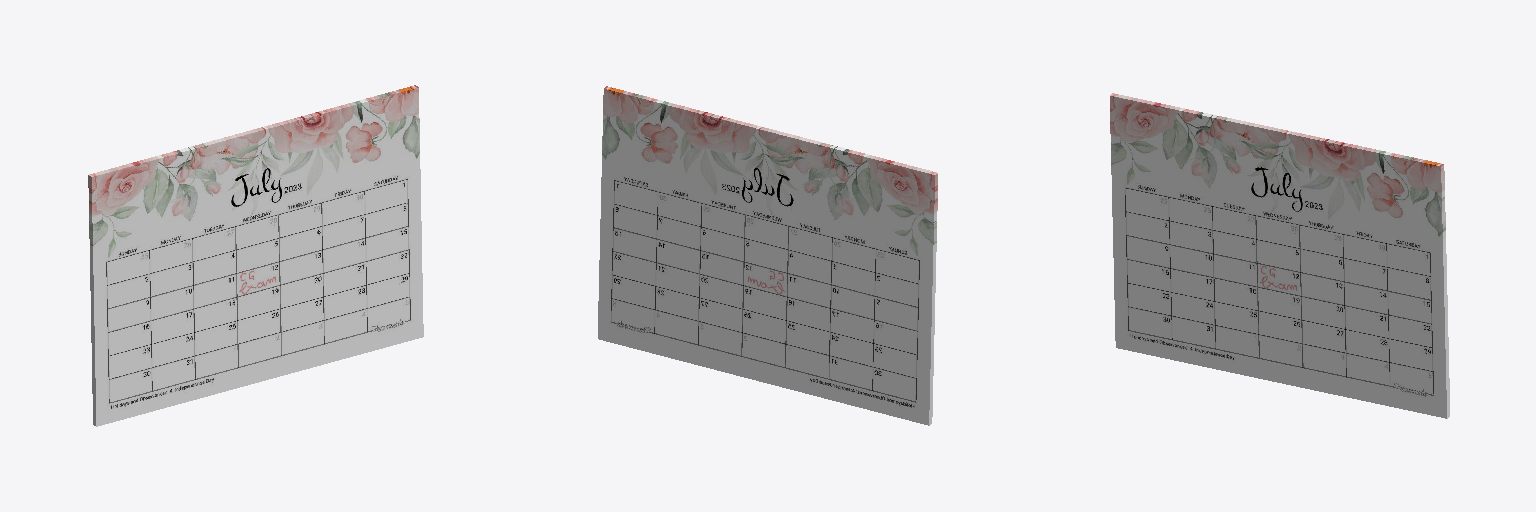
3 views of the same model, side by side, from view 1: azimuth 30°, elevation 25°; view 2: azimuth 150°, elevation 25°; view 3: azimuth 330°, elevation 25° (orthographic).
Parts seen in each view (by area): view 1: calendario_Plane.001; view 2: calendario_Plane.001; view 3: calendario_Plane.001.
Boxes of the visible parts, x1,y1,x2,y2 form: calendario_Plane.001: [88, 85, 423, 426]; calendario_Plane.001: [598, 86, 937, 425]; calendario_Plane.001: [1110, 93, 1449, 418].
Size of the model in its own units: 2.11 by 1.56 by 0.066.
Materials: 1 (1 with a texture image).